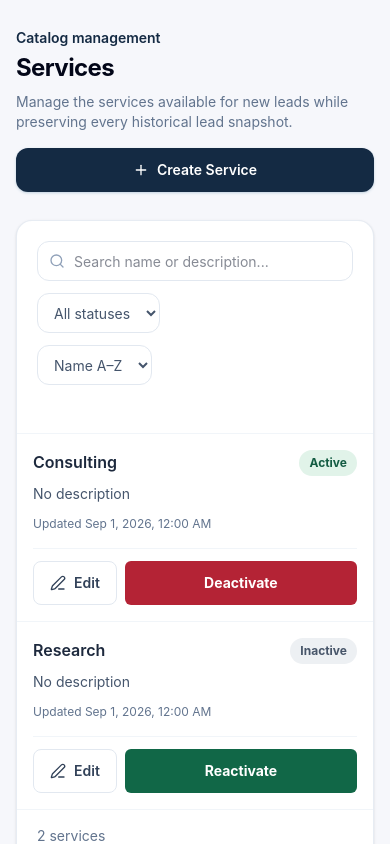
service activation controls › reactivates the inactive service once and disables the action while pending
Expected: the element named "Service Research" shows "Inactive", [300,643,347,658]
Click the button "Reactivate" at {"x": 241, "y": 771}, box [125,749,357,793]
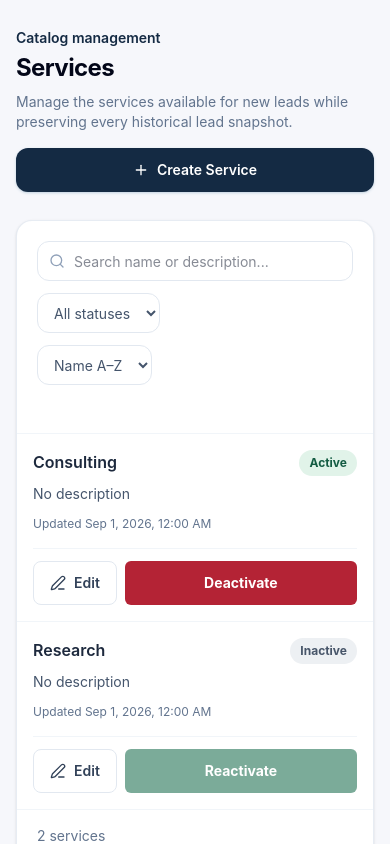
Expected: the button "Reactivate" is disabled, [125,749,357,793]
